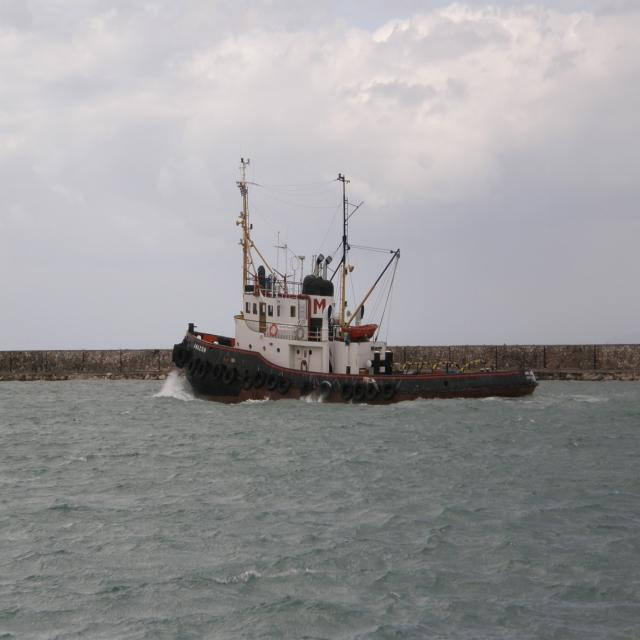fishing boat: (171, 200, 541, 401)
